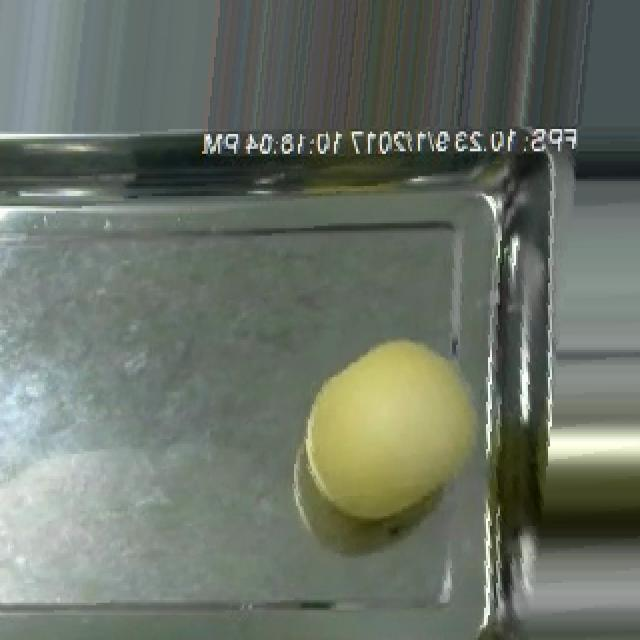Fruit: (294, 327, 496, 531)
